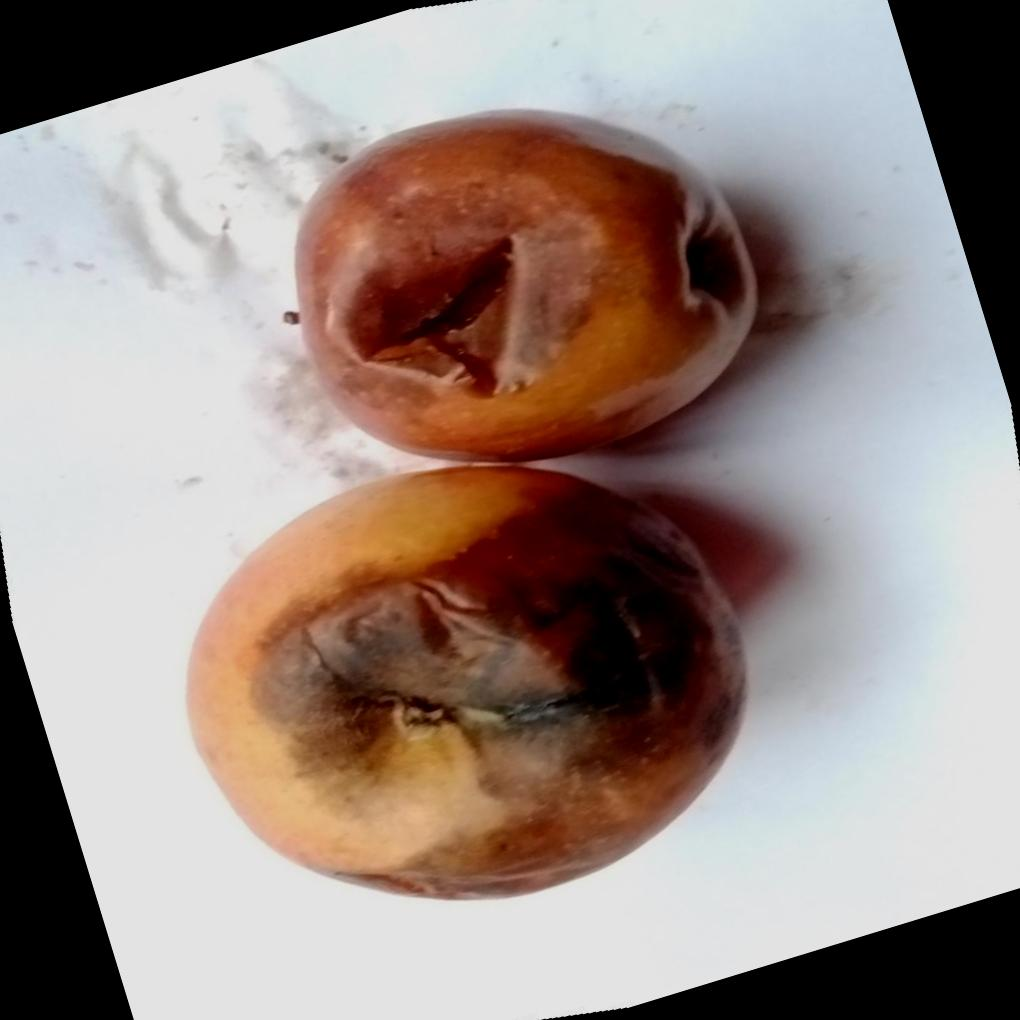FreshOrange: (181, 108, 758, 898)
